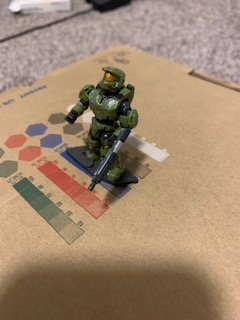chief: (60, 65, 141, 184)
rifle: (88, 126, 132, 192)
spartan: (58, 63, 139, 182)
